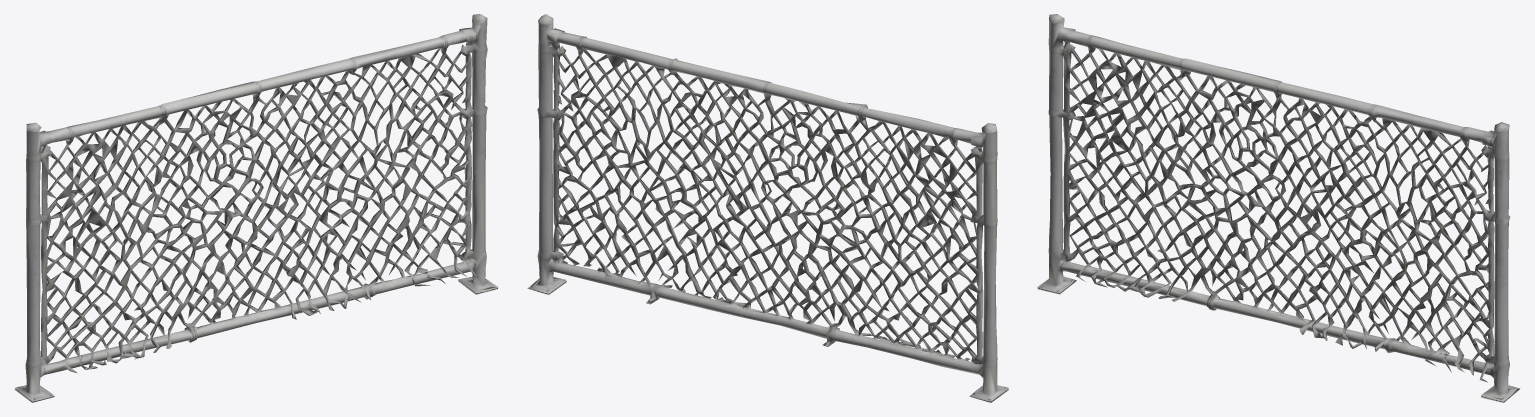
File: fence_chainlink.glb
The picture shows the model from 3 angles, left to right: view 1: azimuth 30°, elevation 25°; view 2: azimuth 150°, elevation 25°; view 3: azimuth 330°, elevation 25°; orthographic projection.
Parts seen in each view (by area): view 1: tripo_node_63e761c9-9d14-4d15-8fbc-e76aa89b0522; view 2: tripo_node_63e761c9-9d14-4d15-8fbc-e76aa89b0522; view 3: tripo_node_63e761c9-9d14-4d15-8fbc-e76aa89b0522.
Boxes of the visible parts, box(x1,y1,x2,y2) form: tripo_node_63e761c9-9d14-4d15-8fbc-e76aa89b0522: box(14, 14, 498, 402); tripo_node_63e761c9-9d14-4d15-8fbc-e76aa89b0522: box(527, 14, 1008, 402); tripo_node_63e761c9-9d14-4d15-8fbc-e76aa89b0522: box(1037, 14, 1520, 402).
Size of the model in its own units: 1 by 0.5595 by 0.0699.
Materials: 1 (1 with a texture image).
